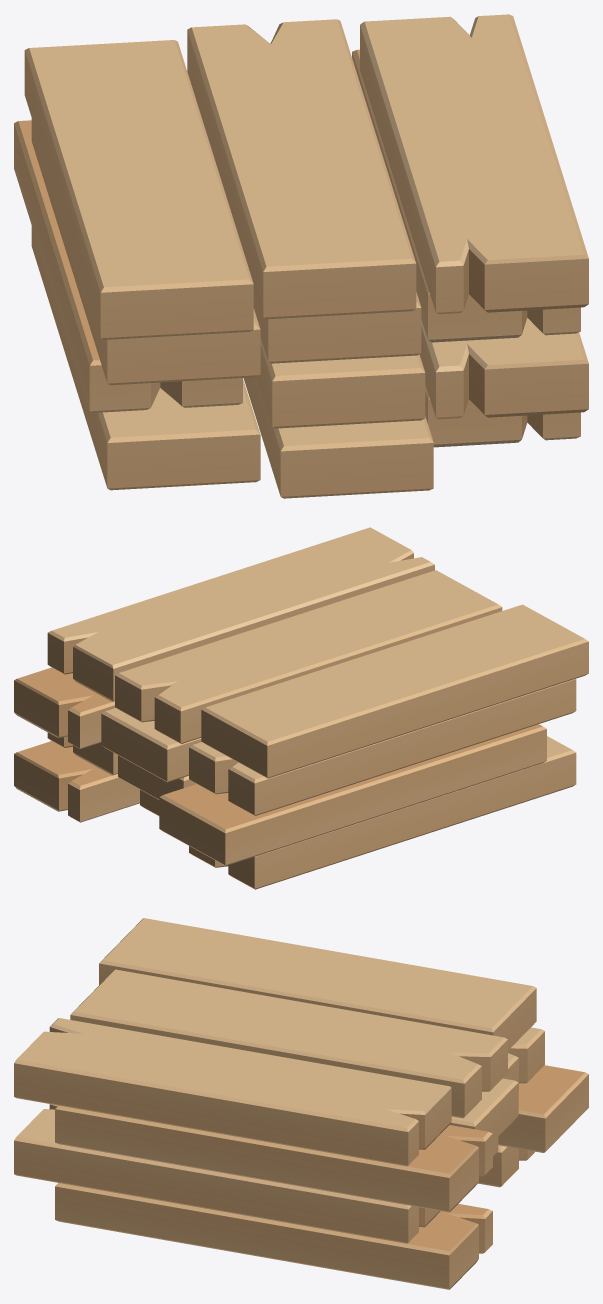
File: Madeira refinada A.fbx
3 renders of one model, top to bottom at view 1: azimuth 30°, elevation 25°; view 2: azimuth 150°, elevation 25°; view 3: azimuth 270°, elevation 25°, orthographic. The views are drawn at different scales.
Parts seen in each view (by area): view 1: Madeira refinada A; view 2: Madeira refinada A; view 3: Madeira refinada A.
Boxes of the visible parts, x1,y1,x2,y2 form: Madeira refinada A: (14,14,588,498); Madeira refinada A: (14,527,588,889); Madeira refinada A: (14,918,588,1289).
Size of the model in its own units: 211 by 69.09 by 233.
